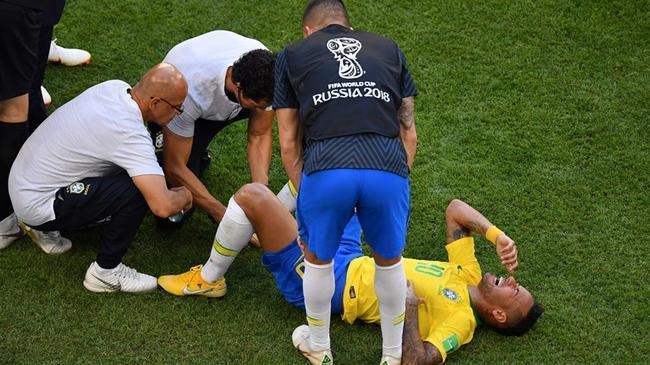falling: (147, 183, 574, 363)
